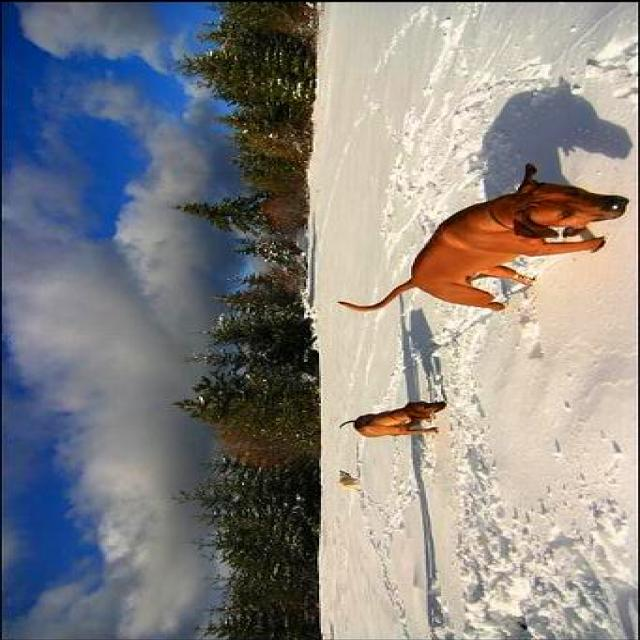rhodesian_ridgeback: (336, 162, 632, 316), (338, 397, 448, 439)
